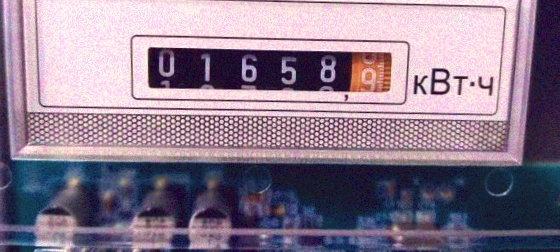0: (155, 46, 177, 78)
1: (199, 50, 213, 82)
5: (279, 53, 299, 86)
6: (239, 51, 260, 83)
8: (318, 52, 338, 84)
9: (358, 65, 376, 91)
screen: (122, 25, 414, 110)
